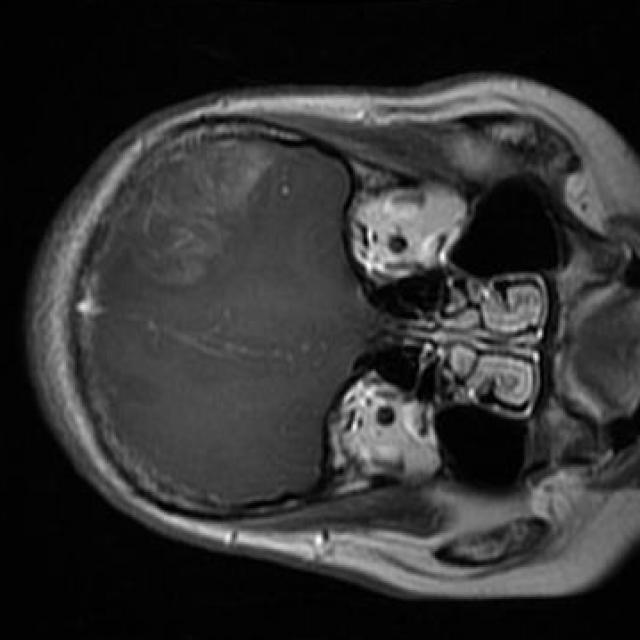glioma: (123, 139, 278, 285)
